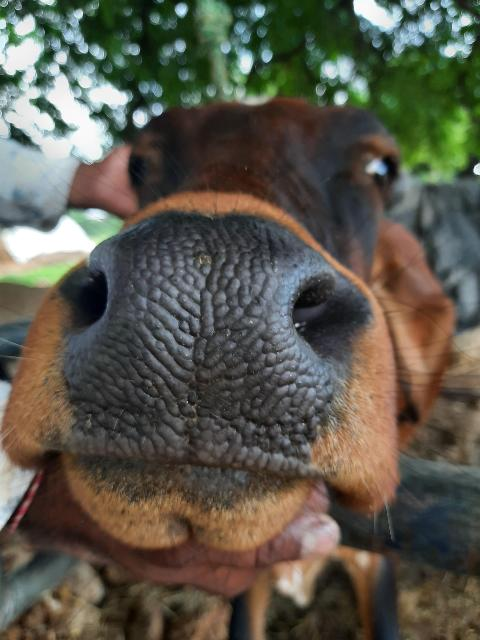Muzzle: (94, 227, 346, 481)
